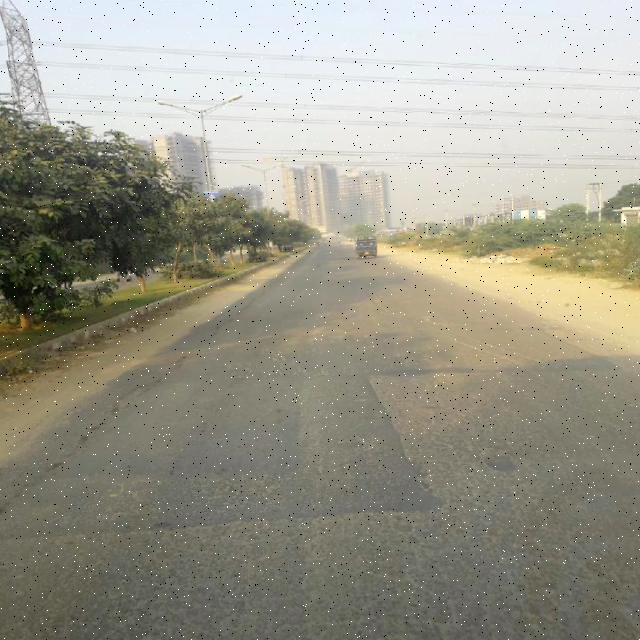D00: (451, 330, 590, 364)
D20: (7, 433, 636, 635)
